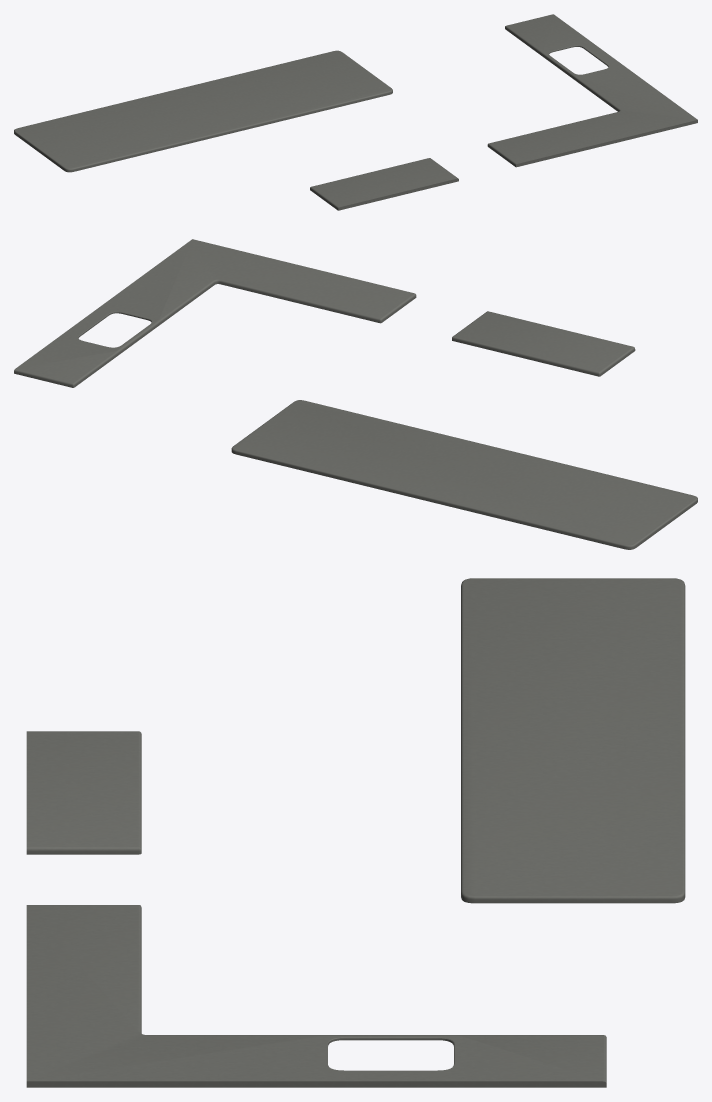
The model's file is 1860_kitchen_Countertops_QuartzExpoGray.gltf.
The picture shows the model from 3 angles, top to bottom: view 1: azimuth 30°, elevation 25°; view 2: azimuth 150°, elevation 25°; view 3: azimuth 270°, elevation 25°; orthographic projection. The views are drawn at different scales.
Parts seen in each view (by area): view 1: Countertops_Quartz Expo Gray; view 2: Countertops_Quartz Expo Gray; view 3: Countertops_Quartz Expo Gray.
Boxes of the visible parts, x1=… form: Countertops_Quartz Expo Gray: x1=14, y1=14, x2=697, y2=210; Countertops_Quartz Expo Gray: x1=14, y1=239, x2=697, y2=549; Countertops_Quartz Expo Gray: x1=26, y1=578, x2=685, y2=1087.
Bounding box in the file's own units: 8.6 × 0.09 × 4.7.
Materials: 1 (1 with a texture image).
